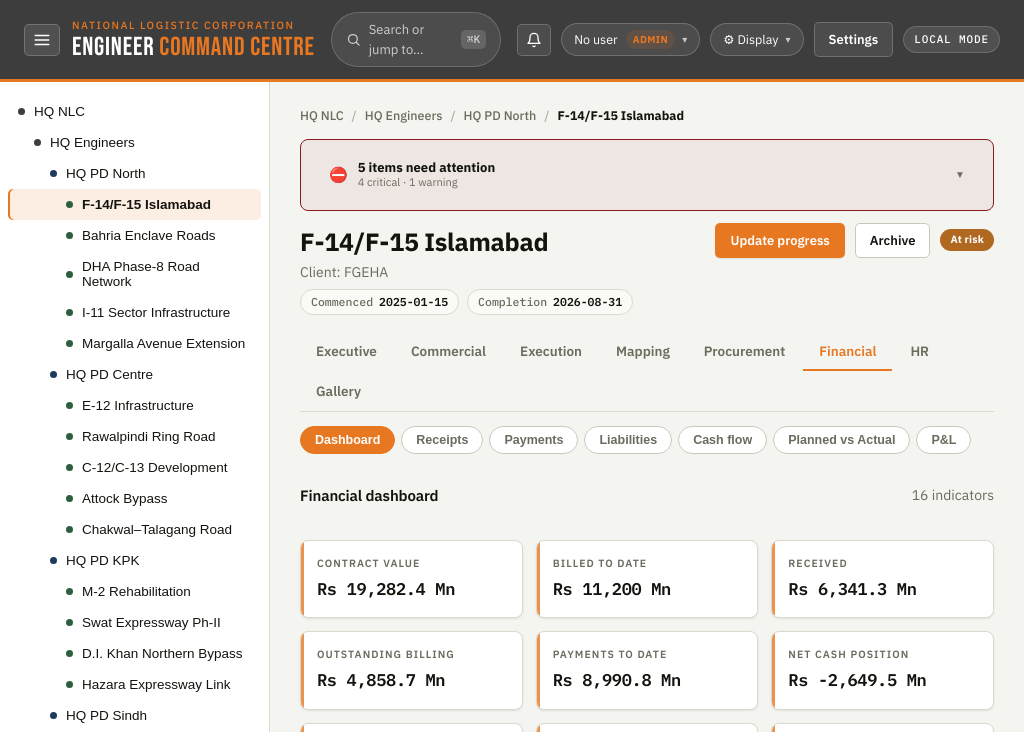
Test: Phase 5 — Financial › shows the P&L with gross profit
Expected: the heading "Financial dashboard" is shown, [300,484,438,507]
Click the tab "P&L": click(944, 440) [916,426,971,454]
(page scrolled)
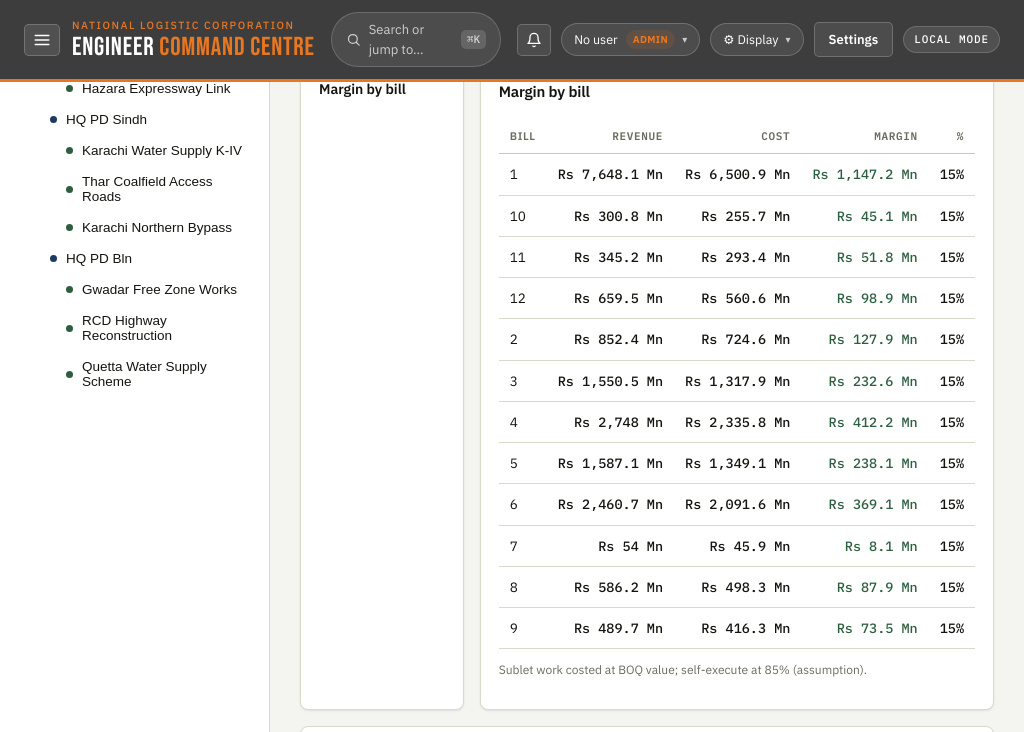
Now the table named "Margin by bill table" is shown, box [499,119,975,649]
